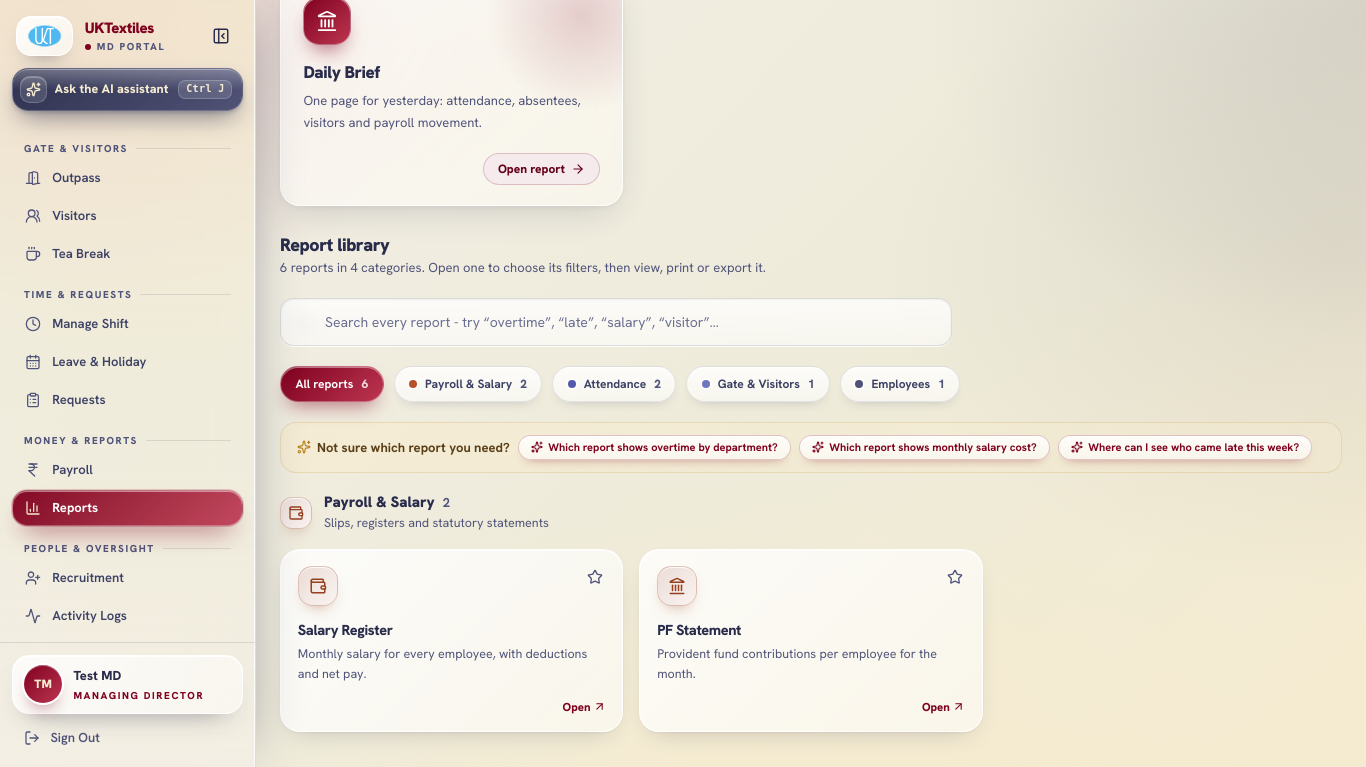
the library › narrows to one category with a chip, and back
(page scrolled)
Click the button with test id "md-chip-attendance" at x=614, y=384, box [552,366,676,402]
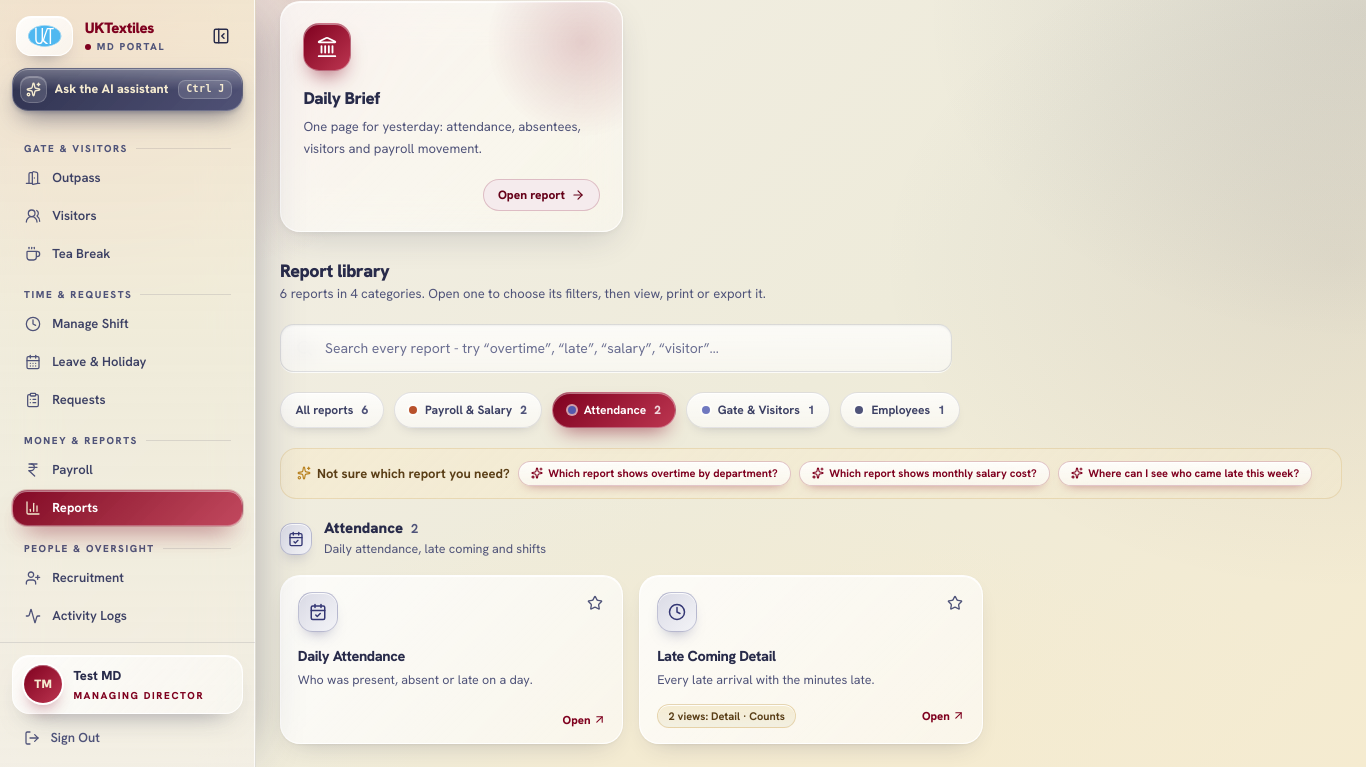
Expected: the element with test id "md-report-library" shows "Daily Attendance", [280,575,623,744]
Expected: the link with test id "md-report-library" no longer shows "Salary Register"
Click the button with test id "md-chip-attendance" at x=614, y=410, box [552,392,676,428]
(page scrolled)
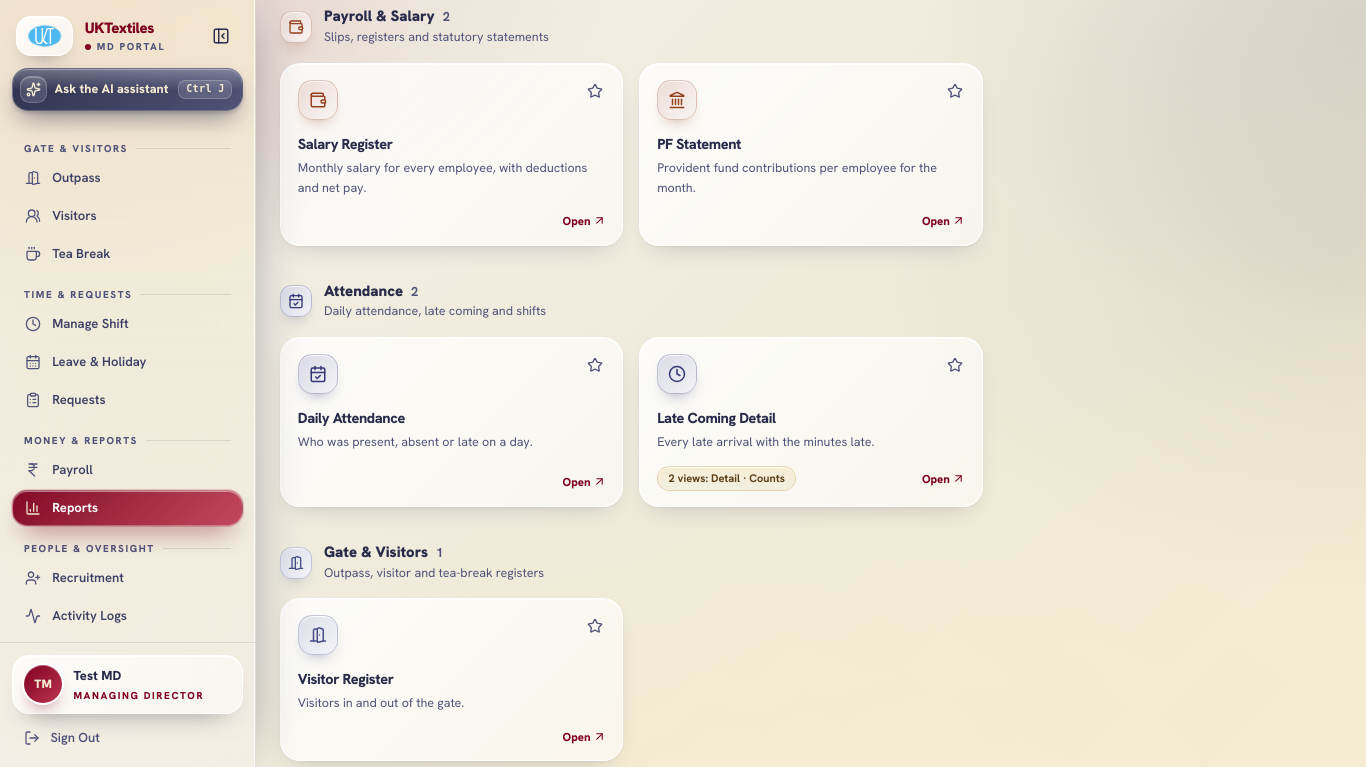
Expected: the element with test id "md-report-library" shows "Salary Register", [280,63,623,246]
